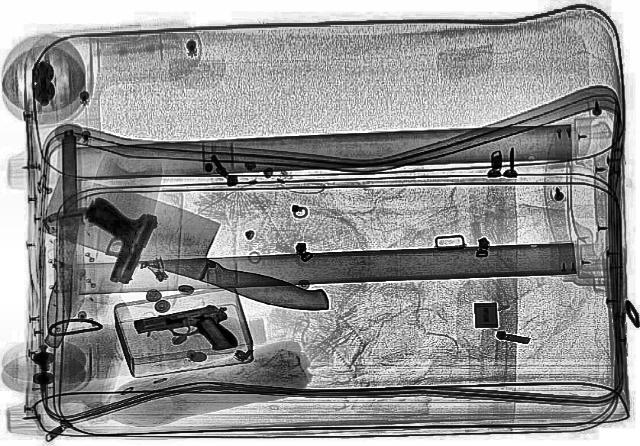Gun: (56, 196, 162, 284), (128, 300, 244, 364)
Knife: (26, 173, 362, 322), (53, 128, 83, 330)
